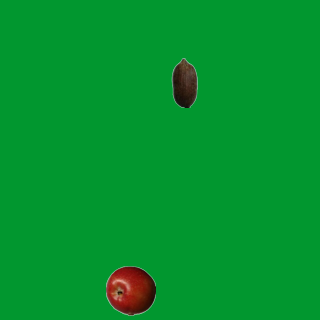Apple Braeburn: (105, 265, 155, 315)
Nut Pecan: (159, 57, 209, 107)
